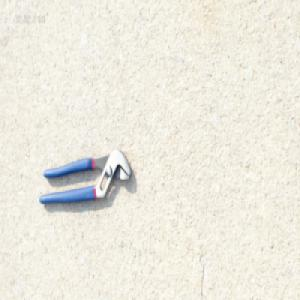Pliers: (37, 146, 132, 207)
